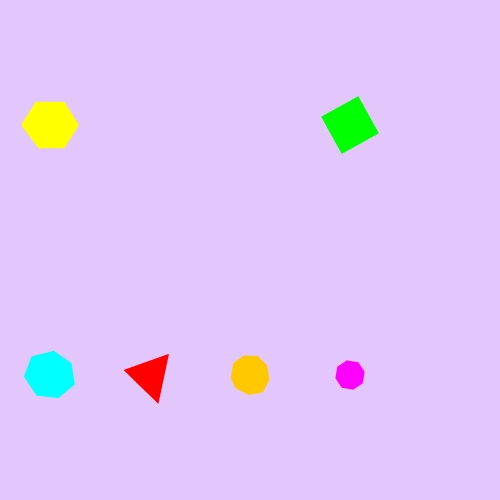heptagon: (22, 348, 79, 403)
hexagon: (18, 99, 82, 152)
nonagon: (226, 352, 274, 398)
octagon: (331, 356, 369, 394)
quadrilateral: (317, 92, 383, 158)
triangle: (125, 349, 175, 402)
